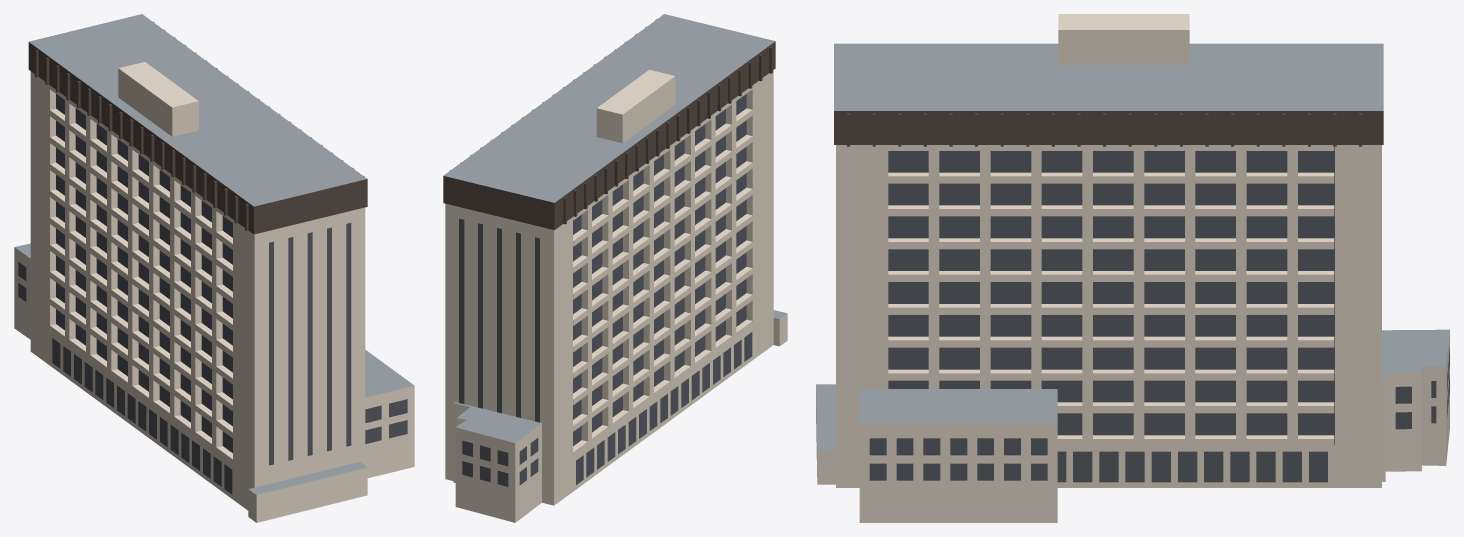
File: sat-hilton-palacio-del-rio.glb
3 views of the same model, side by side, from view 1: azimuth 30°, elevation 25°; view 2: azimuth 150°, elevation 25°; view 3: azimuth 270°, elevation 25° (orthographic). The views are drawn at different scales.
Visible parts, largest first — view 1: Hilton Palacio del Rio; view 2: Hilton Palacio del Rio; view 3: Hilton Palacio del Rio.
Boxes of the visible parts, x1,y1,x2,y2 form: Hilton Palacio del Rio: (14, 14, 414, 522); Hilton Palacio del Rio: (443, 14, 787, 522); Hilton Palacio del Rio: (816, 14, 1449, 522).
Size of the model in its own units: 39.75 by 73 by 102.
